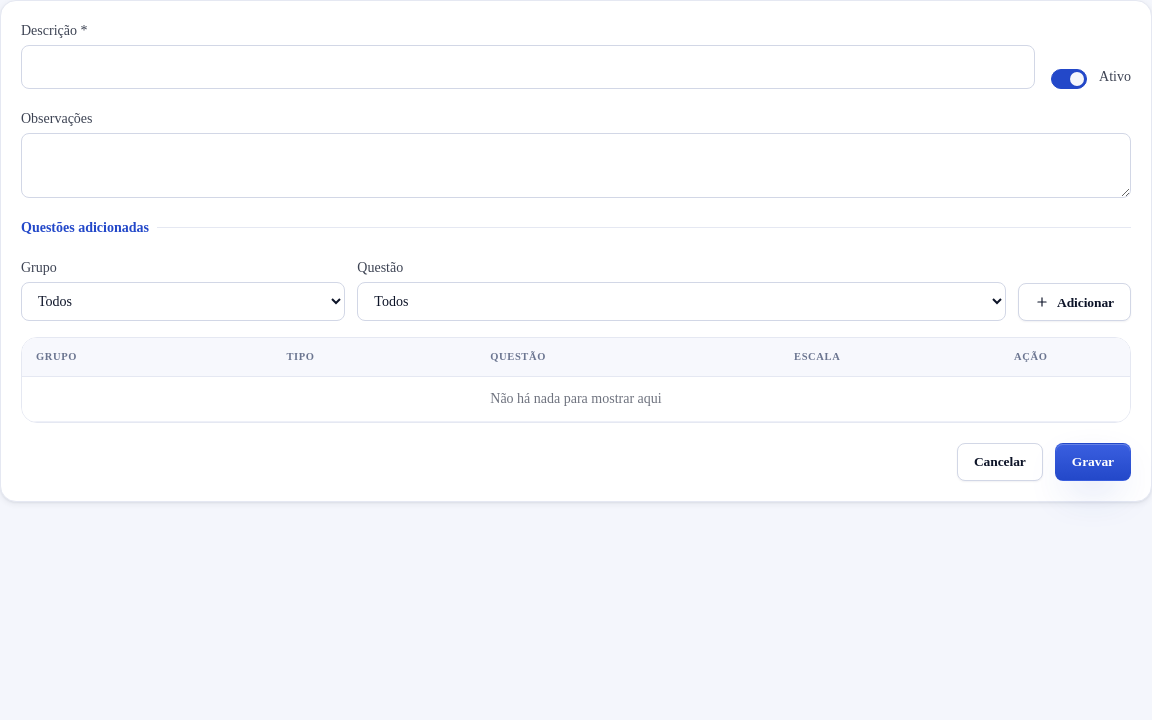
QuestionarioForm › escala só aparece para questão objetiva com escala
Select "O EU" in the dropdown labelled "Grupo": (183, 302) [21, 282, 345, 321]
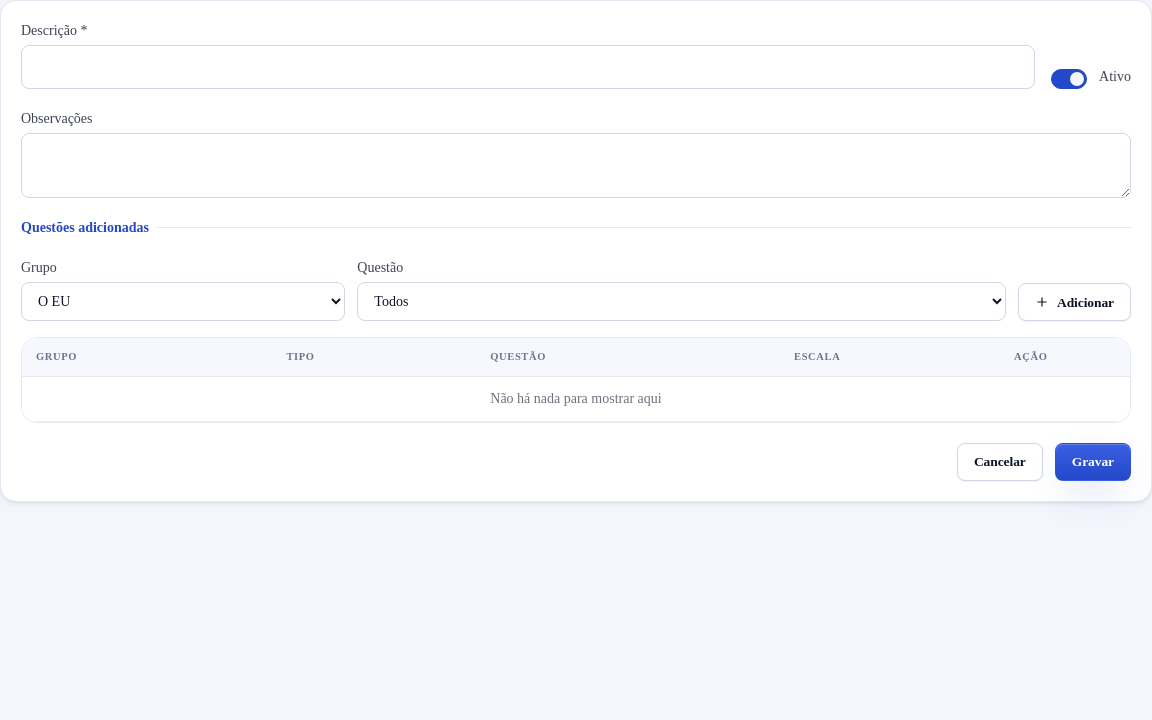
Click the button "Adicionar": (1074, 302) [1018, 283, 1131, 321]
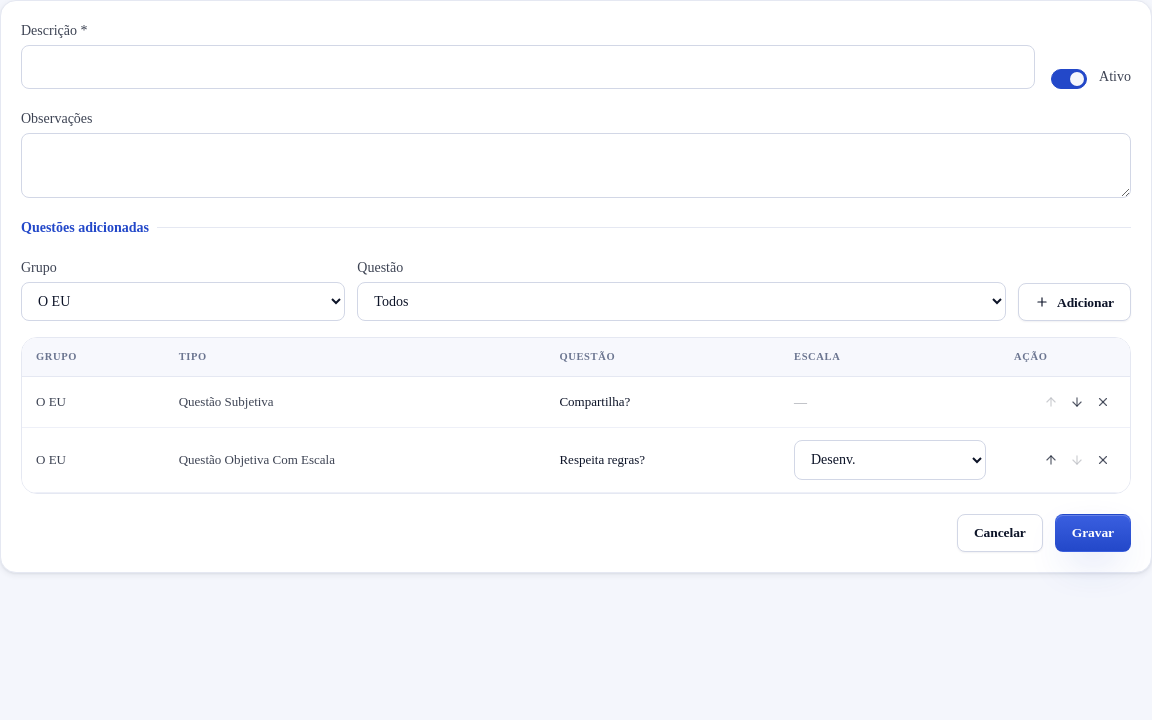
Now the dropdown named "Escala de Respeita regras?" is shown, box [794, 440, 986, 480]
